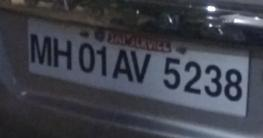0: (78, 42, 96, 75)
1: (96, 47, 110, 79)
2: (184, 58, 204, 100)
5: (162, 53, 183, 92), (204, 65, 224, 101)
8: (222, 68, 245, 102)
A: (113, 47, 134, 83)
H: (53, 37, 74, 73)
M: (29, 32, 54, 70)
V: (130, 49, 153, 85)
